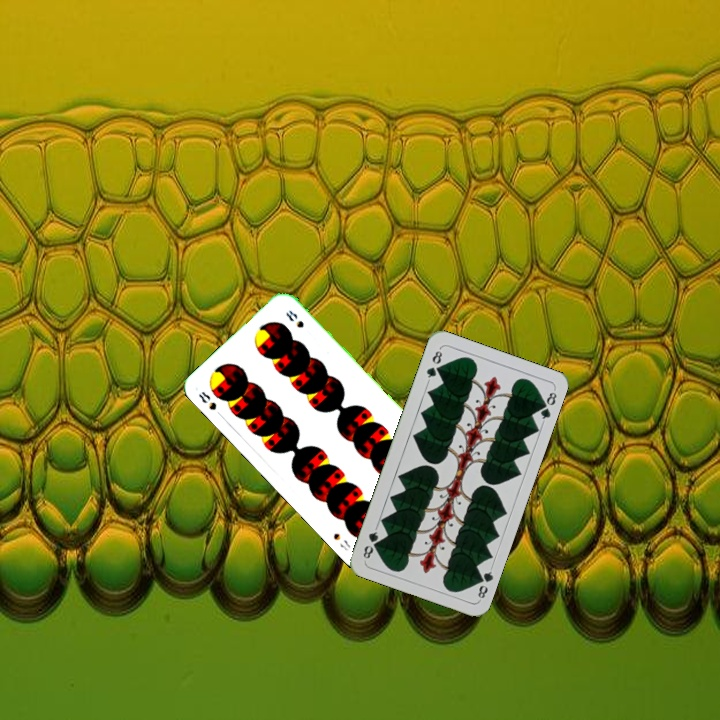G8: (472, 563, 496, 603), (422, 345, 445, 384)
S8: (195, 387, 225, 420)
